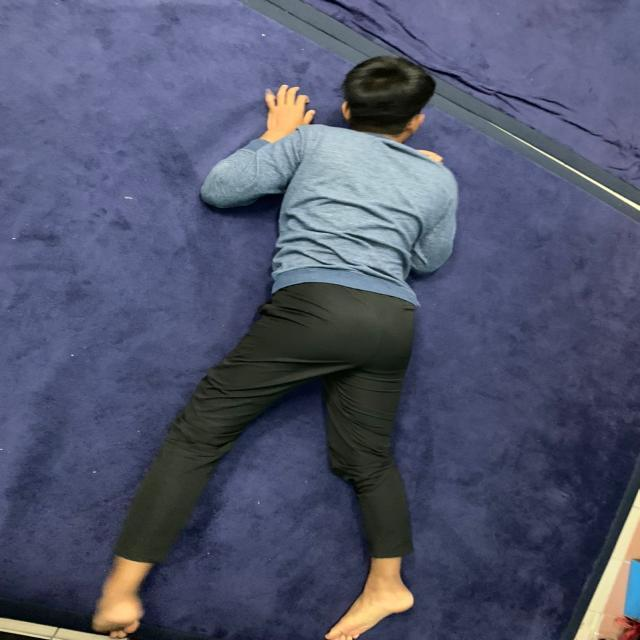fall: (88, 53, 465, 640)
